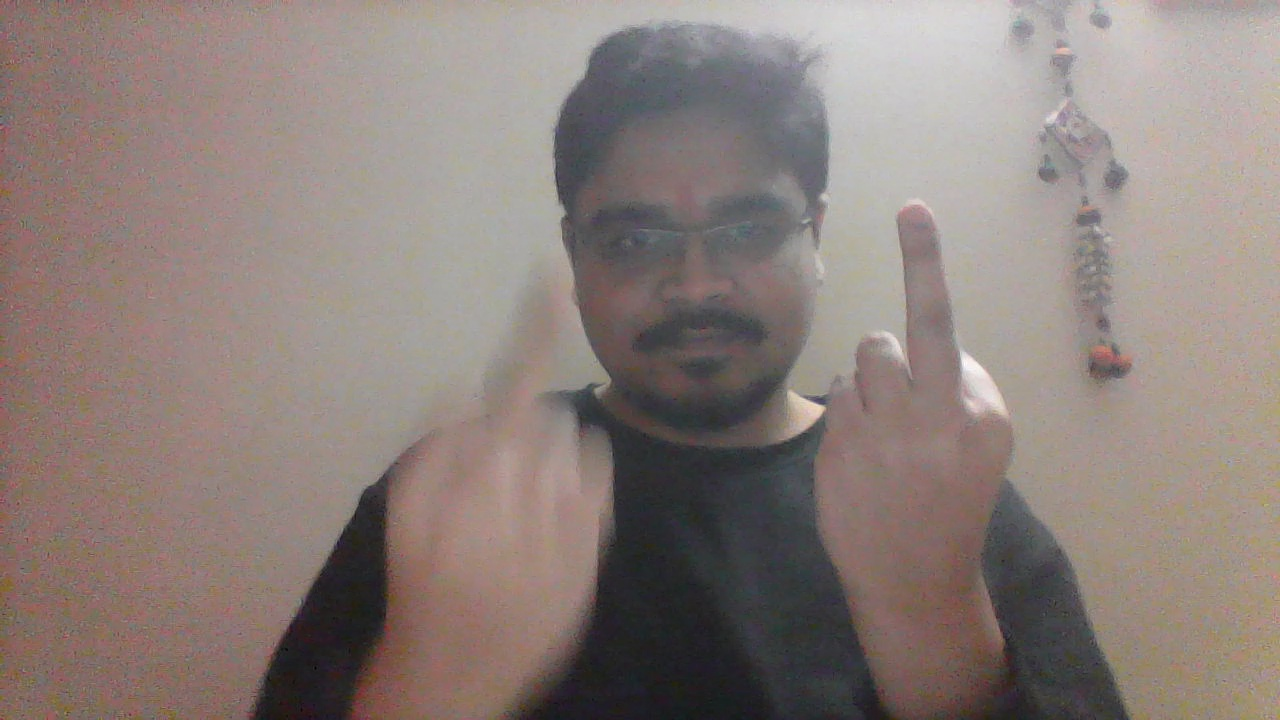Fuck Off: (811, 202, 1013, 689)
